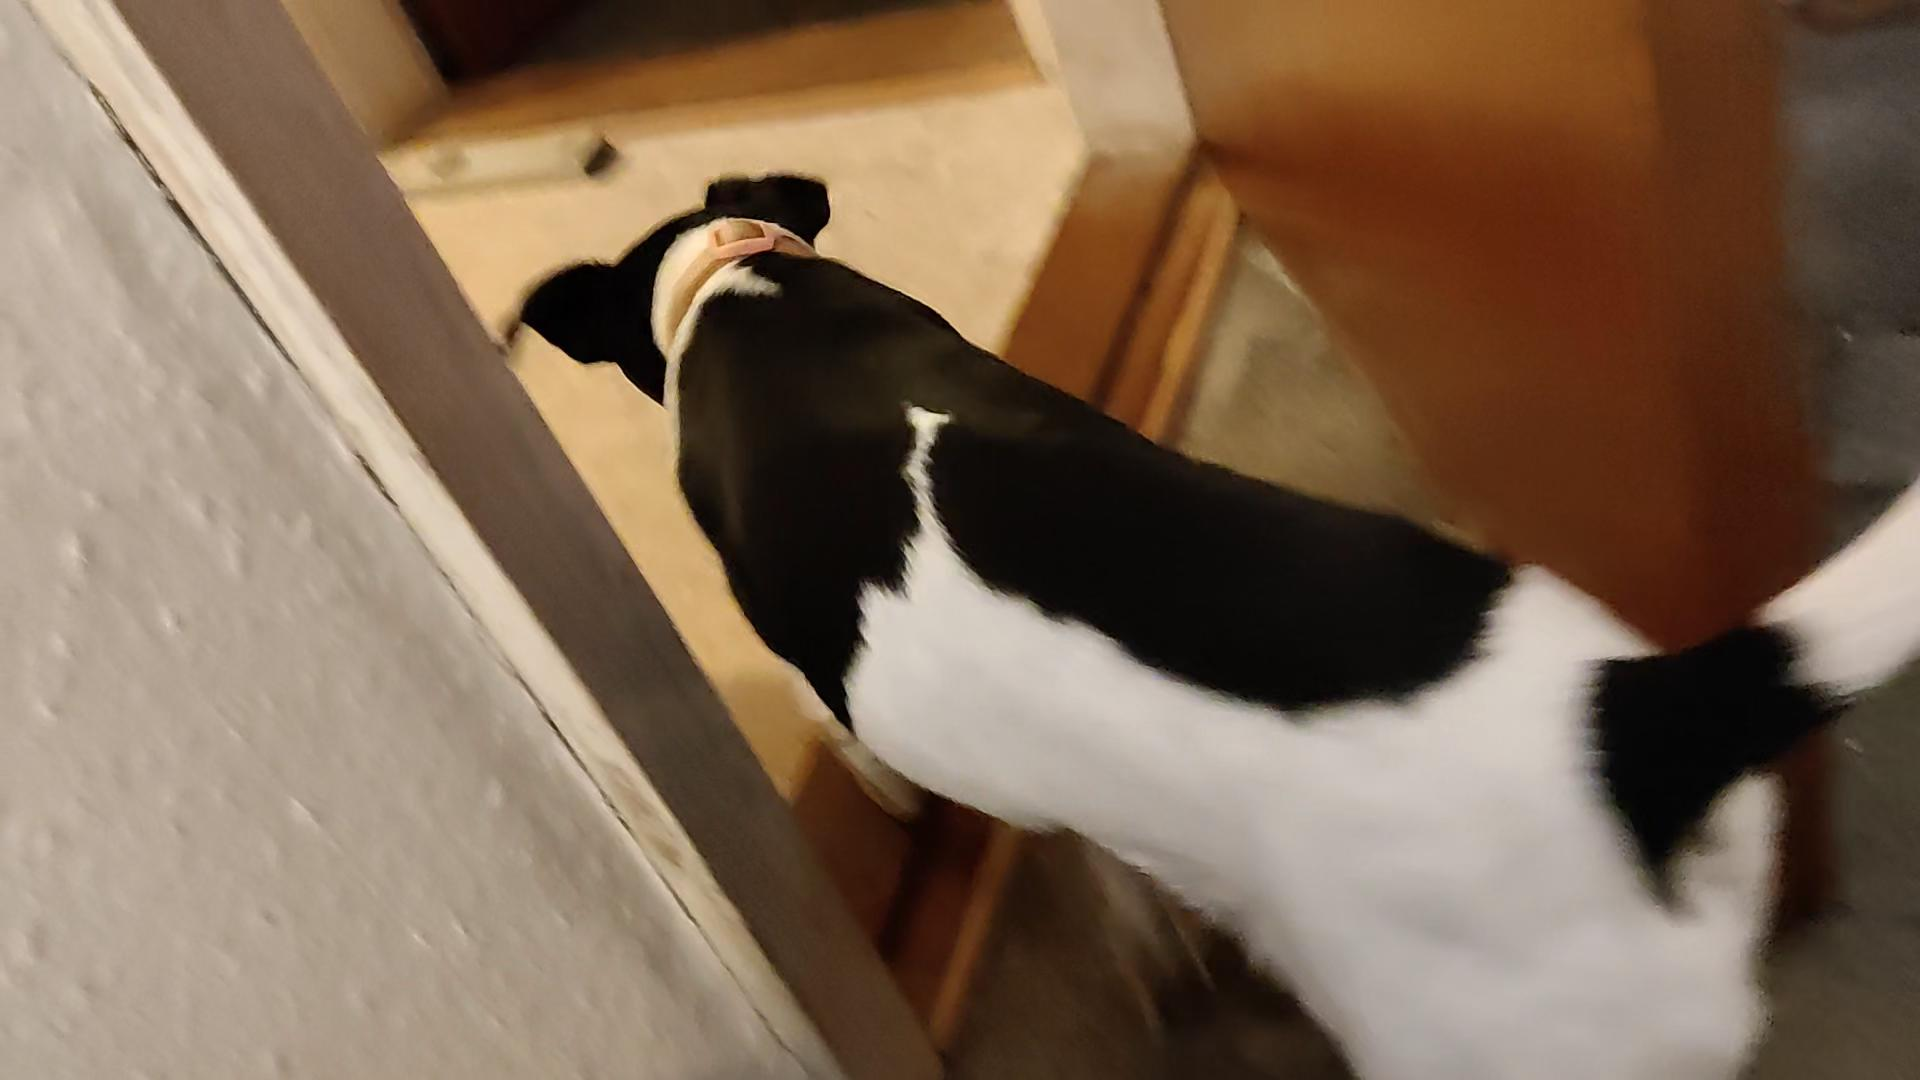Dog: (481, 164, 1919, 1079)
